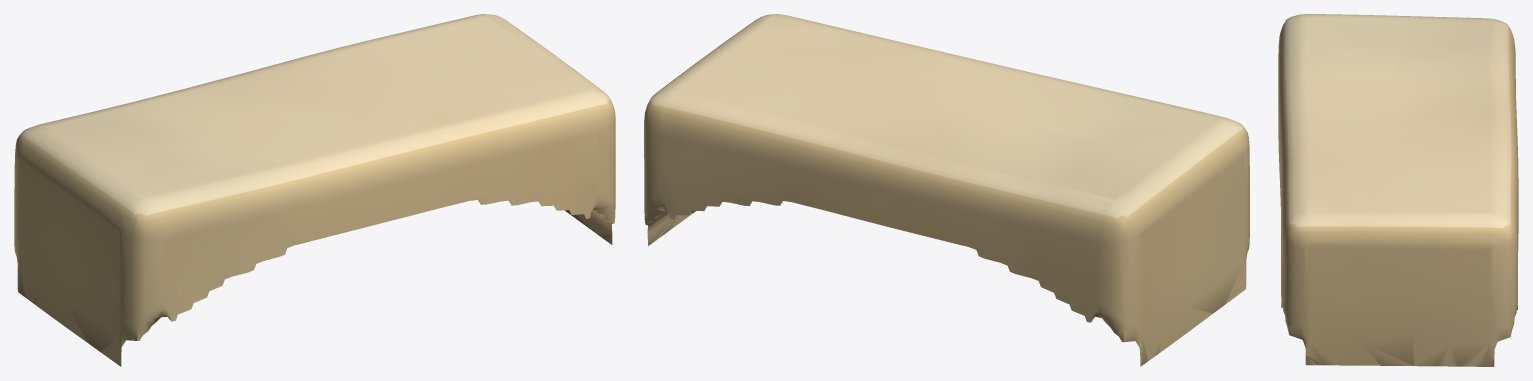
Rendered from shore_castle_arch.glb.
3 views of the same model, side by side, from view 1: azimuth 30°, elevation 25°; view 2: azimuth 150°, elevation 25°; view 3: azimuth 270°, elevation 25° (orthographic). The views are drawn at different scales.
Parts seen in each view (by area): view 1: shore_castle_arch; view 2: shore_castle_arch; view 3: shore_castle_arch.
Part boxes in pixels (x1,y1,x2,y2): shore_castle_arch: (14,14,615,366); shore_castle_arch: (644,14,1249,366); shore_castle_arch: (1278,14,1518,366).
Size of the model in its own units: 6.46 by 2.06 by 3.04.
